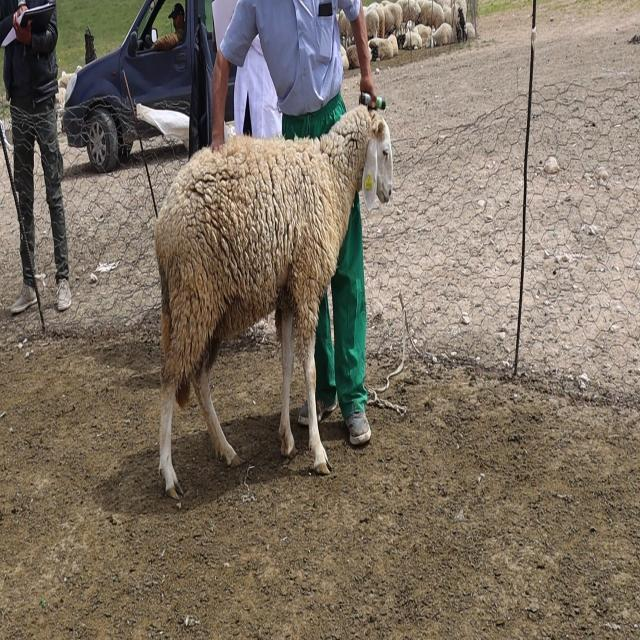Score_2: (155, 105, 392, 498)
